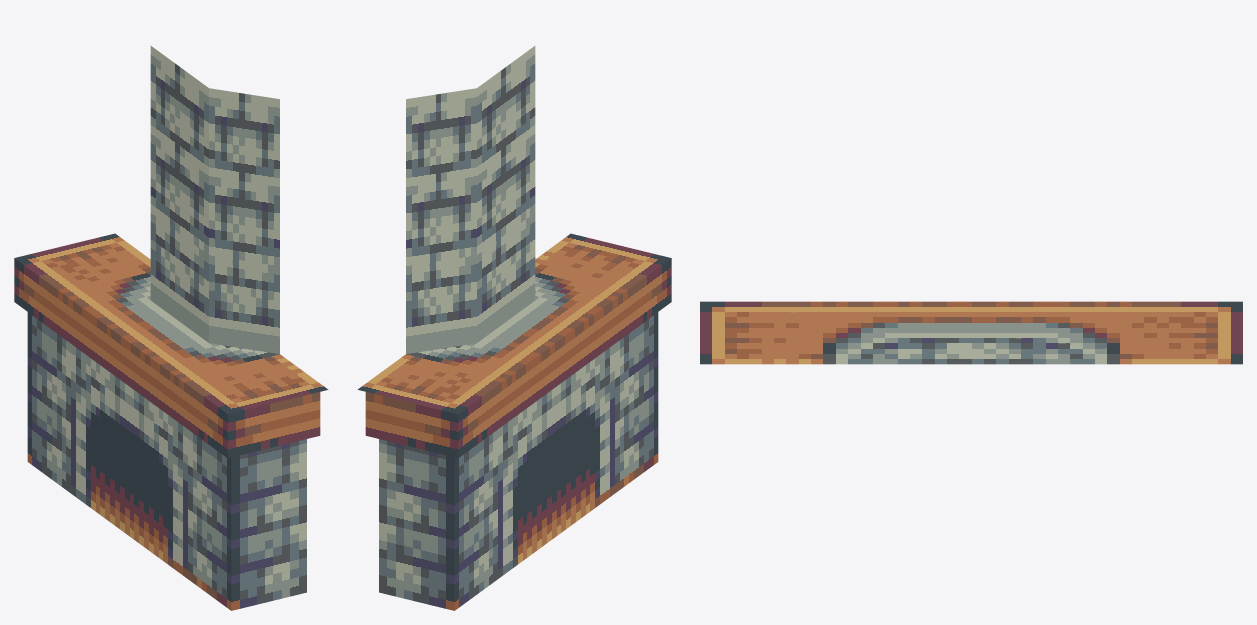
File: Fireplace.gltf
3 views of the same model, side by side, from view 1: azimuth 30°, elevation 25°; view 2: azimuth 150°, elevation 25°; view 3: azimuth 270°, elevation 25° (orthographic). The views are drawn at different scales.
Bounding box in the file's own units: 0.75 × 3.25 × 2.75.
1 material, 1 textured.
